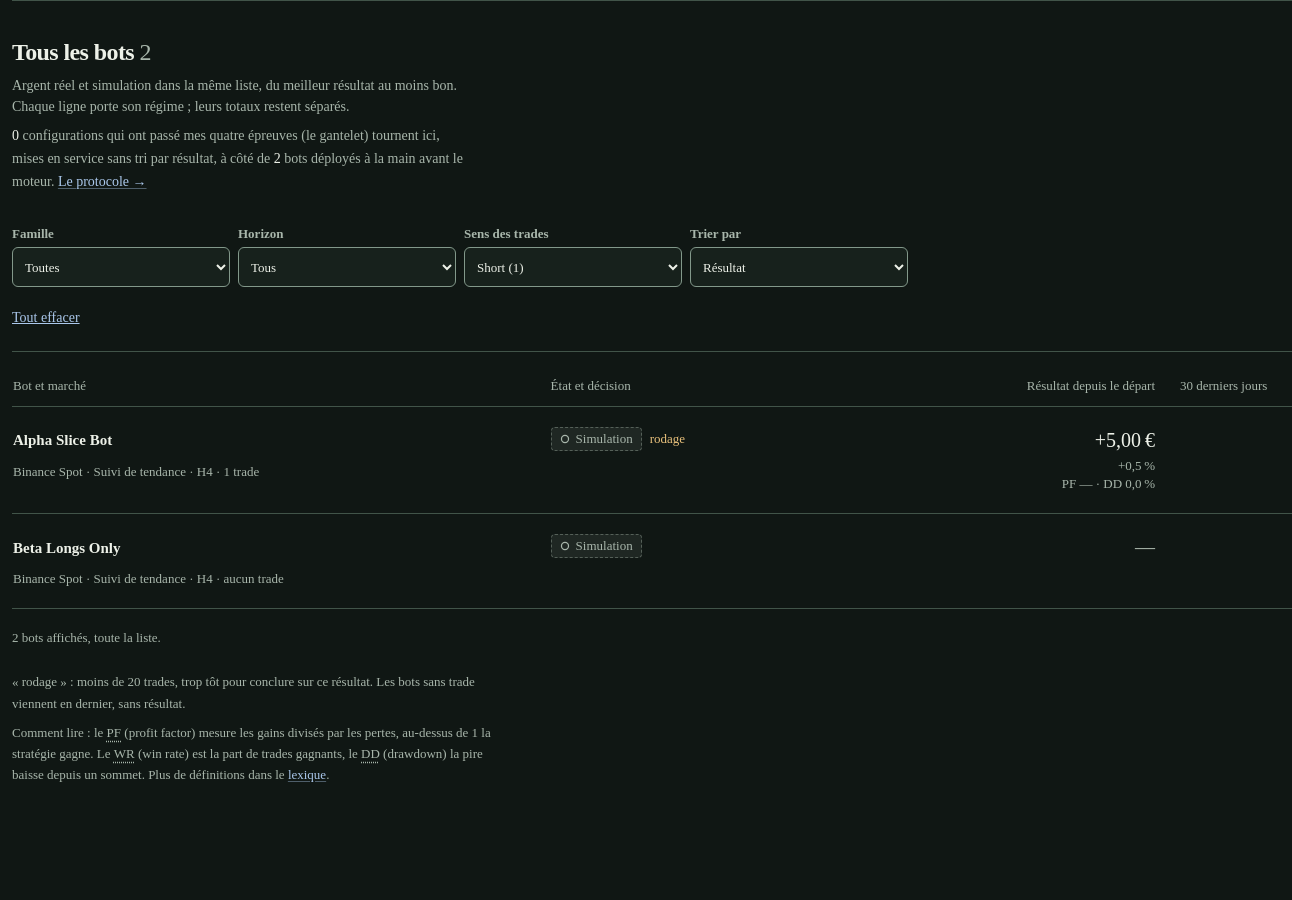
Test case: FleetRegister — side slice › choosing « Les deux » returns to all
Select "Les deux" in the dropdown labelled "Sens des trades" at (573, 267), box x1=464 y1=247 x2=682 y2=287
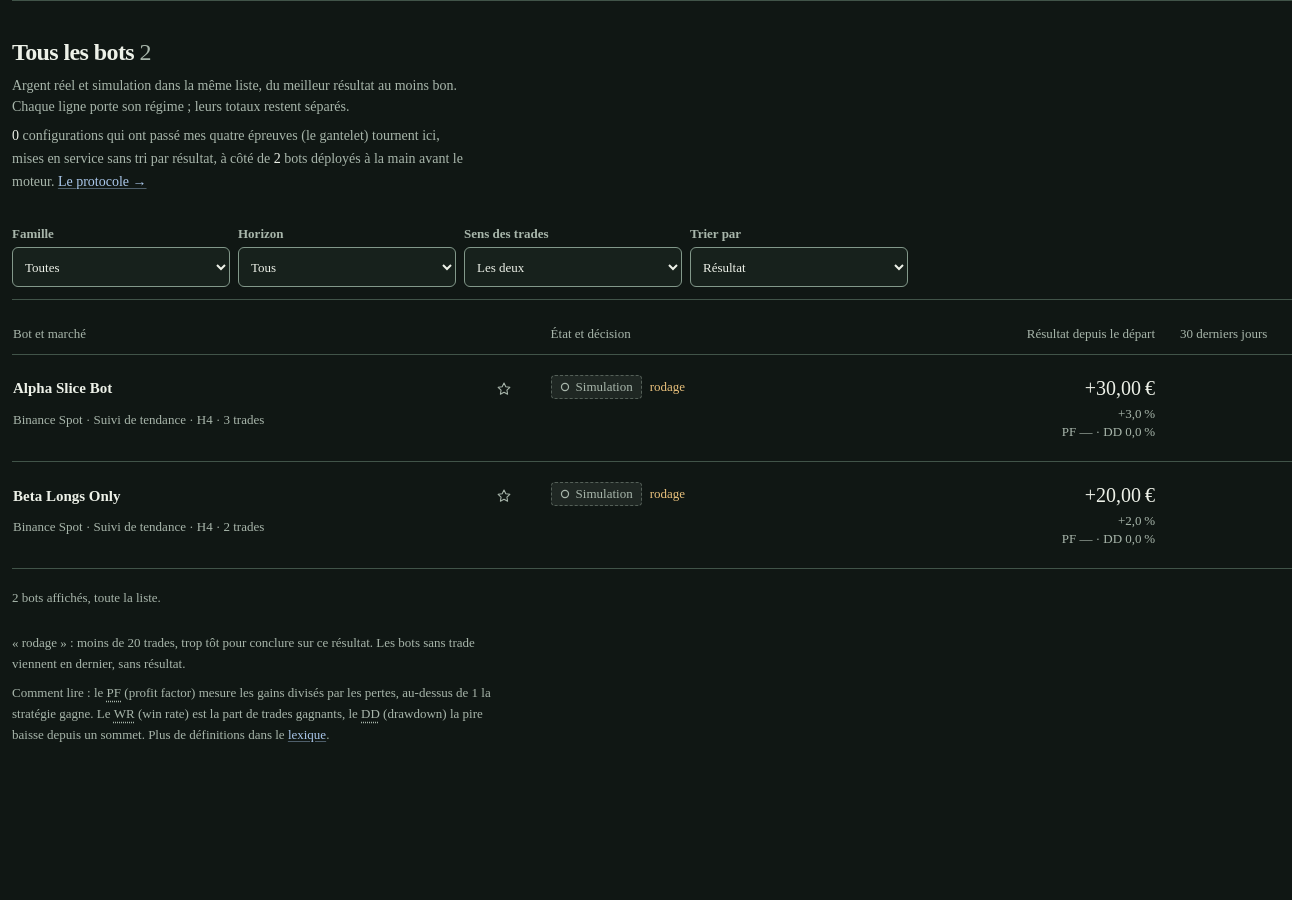
Now the text "3 trades" is shown, box x1=224 y1=412 x2=264 y2=427
